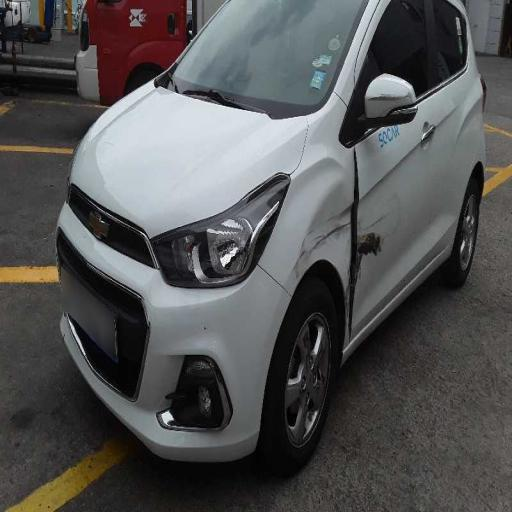broken: (286, 180, 402, 319)
